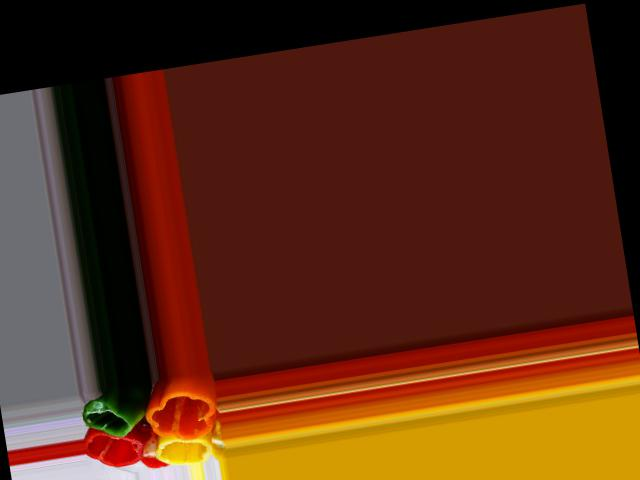bell_pepper: (86, 427, 147, 473)
